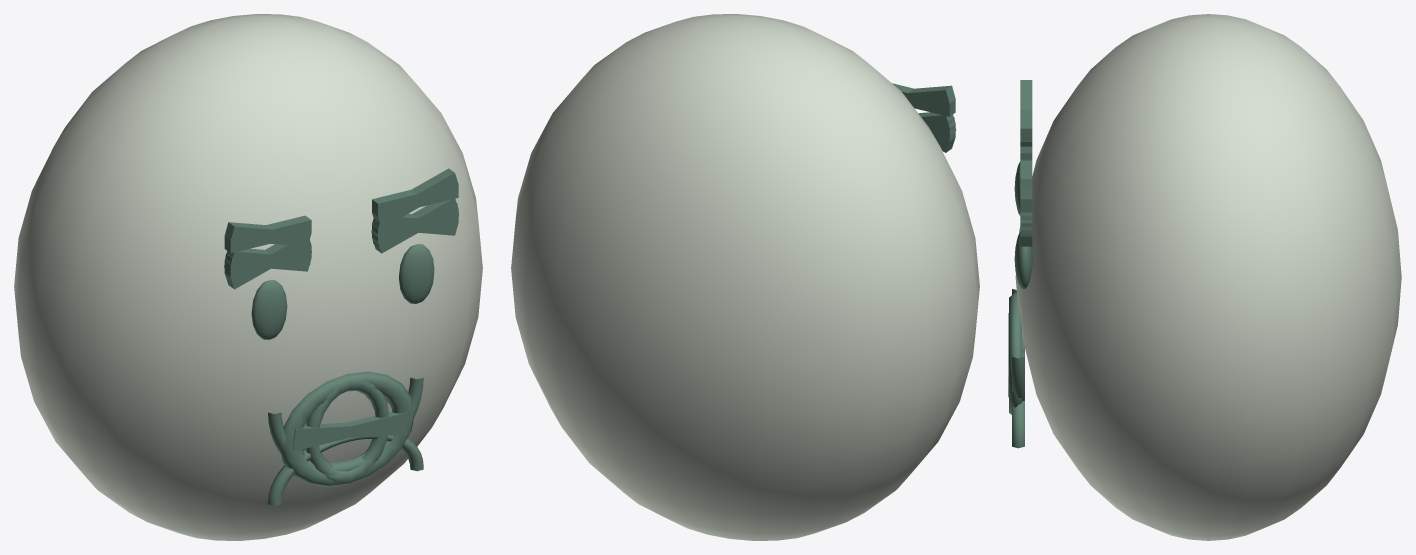
The model's file is signemo.glb.
3 views of the same model, side by side, from view 1: azimuth 30°, elevation 25°; view 2: azimuth 150°, elevation 25°; view 3: azimuth 270°, elevation 25° (orthographic). The views are drawn at different scales.
Visible parts, largest first — view 1: preset_happy, preset_surprised, preset_fear, preset_sad, preset_angry, preset_disgust; view 2: preset_happy, preset_surprised, preset_fear; view 3: preset_happy, preset_surprised, preset_fear, preset_sad.
Boxes of the visible parts, left/top/right/bottom form: preset_happy: left=14, top=14, right=482, bottom=540; preset_surprised: left=224, top=184, right=458, bottom=482; preset_fear: left=224, top=168, right=458, bottom=486; preset_sad: left=225, top=198, right=458, bottom=505; preset_angry: left=225, top=213, right=458, bottom=451; preset_disgust: left=224, top=203, right=459, bottom=440; preset_happy: left=511, top=14, right=979, bottom=540; preset_surprised: left=892, top=83, right=955, bottom=116; preset_fear: left=904, top=85, right=955, bottom=103; preset_happy: left=1012, top=14, right=1401, bottom=540; preset_surprised: left=1014, top=109, right=1032, bottom=289; preset_fear: left=1009, top=80, right=1032, bottom=414; preset_sad: left=1012, top=212, right=1032, bottom=448.
Bounding box in the file's own units: 1.8 × 2 × 1.47.
